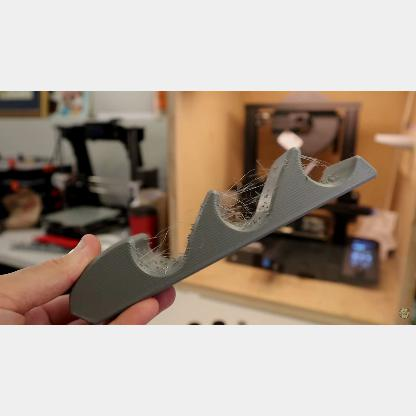fail: (220, 167, 270, 225)
